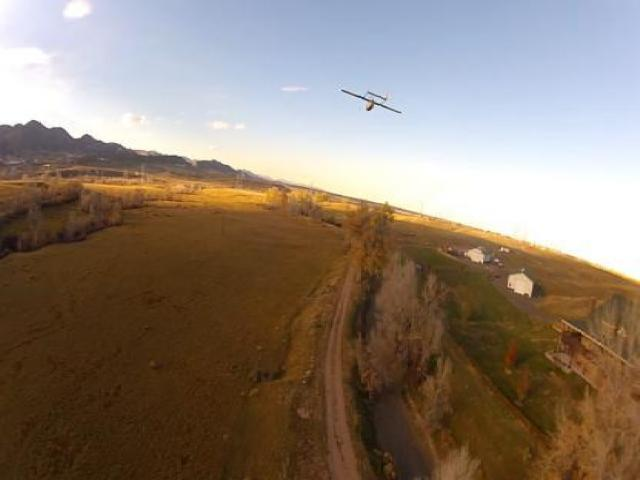uav: (340, 80, 403, 118)
